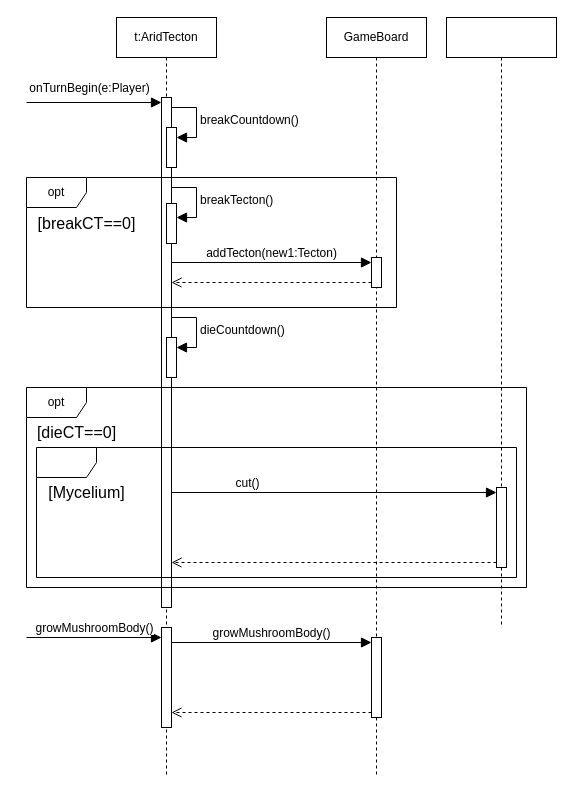
The diagram is 574 pixels wide and 795 high, and some of its shapes have lost their labels. The shapes that lost their labels are listed below. From the top down, each one's box as (x1, y1, x2, y2) in pixels, then its label:
(446, 16, 556, 628): Mycelium
(36, 446, 516, 578): loop
